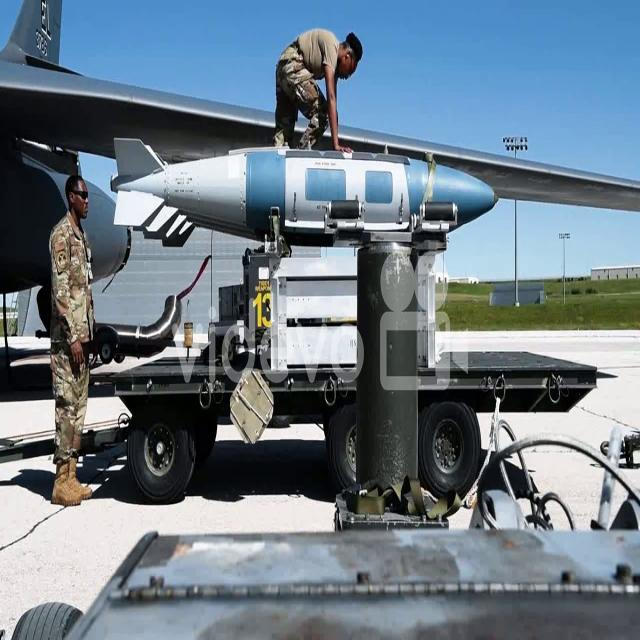rocket: (112, 110, 495, 255)
